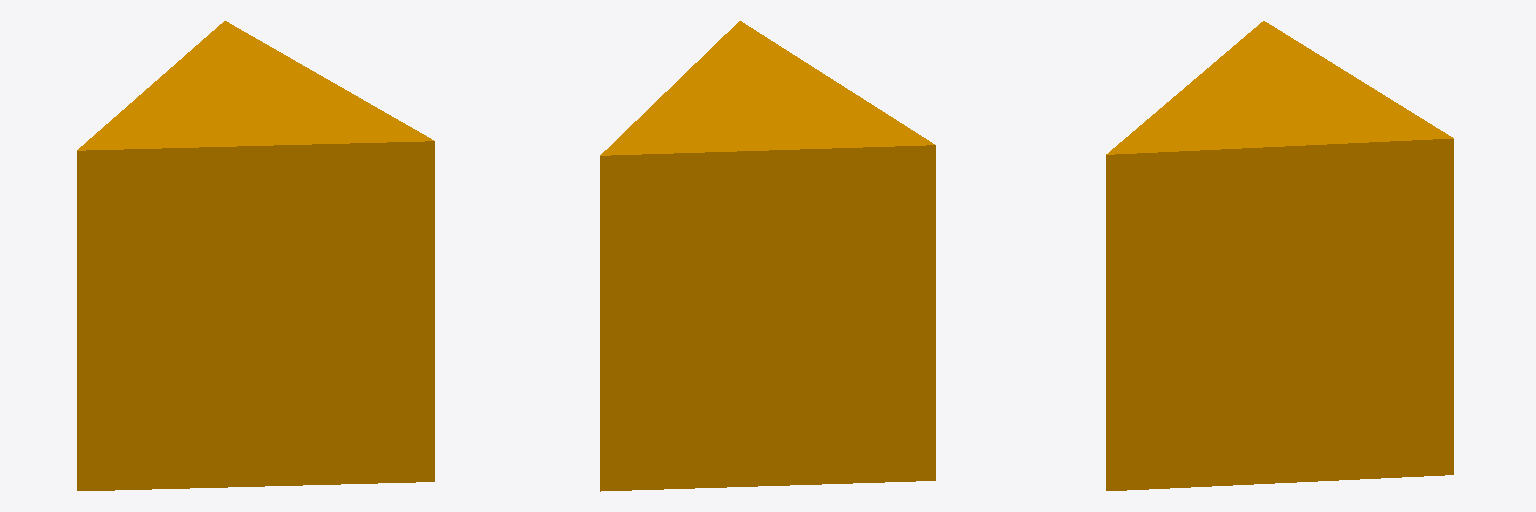
URDF robot description (object):
<?xml version="1.0"?>
<robot name="object">
  <link name="object">
    <visual>
      <origin xyz="0 0 0"/>
      <geometry>
        <mesh filename="meshes/generated/col_115.obj" scale="0.03 0.03 0.03"/>
      </geometry>
    </visual>
    <collision>
      <origin xyz="0 0 0"/>
      <geometry>
        <mesh filename="meshes/generated/col_115.obj" scale="0.03 0.03 0.03"/>
      </geometry>
    </collision>
    <inertial>
      <density value="1000.0"/>
    </inertial>
  </link>
</robot>

--- Facts derived from the render (not from the file) ---
The picture shows the robot from 3 angles, left to right: view 1: azimuth 30°, elevation 25°; view 2: azimuth 150°, elevation 25°; view 3: azimuth 270°, elevation 25°; orthographic projection.
Robot: object — 1 links, 0 joints (none); root link object; default pose: every joint at zero.
Links seen in each view (by area): view 1: object; view 2: object; view 3: object.
Boxes of the visible links, box(x1,y1,x2,y2) form: object: box(77, 21, 434, 490); object: box(600, 21, 935, 491); object: box(1106, 21, 1453, 490).
Bounding box of the posed robot: 0.0514 × 0.0563 × 0.06 m (x, y, z).
Meshes: 1 distinct files referenced, 1 mesh visuals loaded (1 OBJ).
